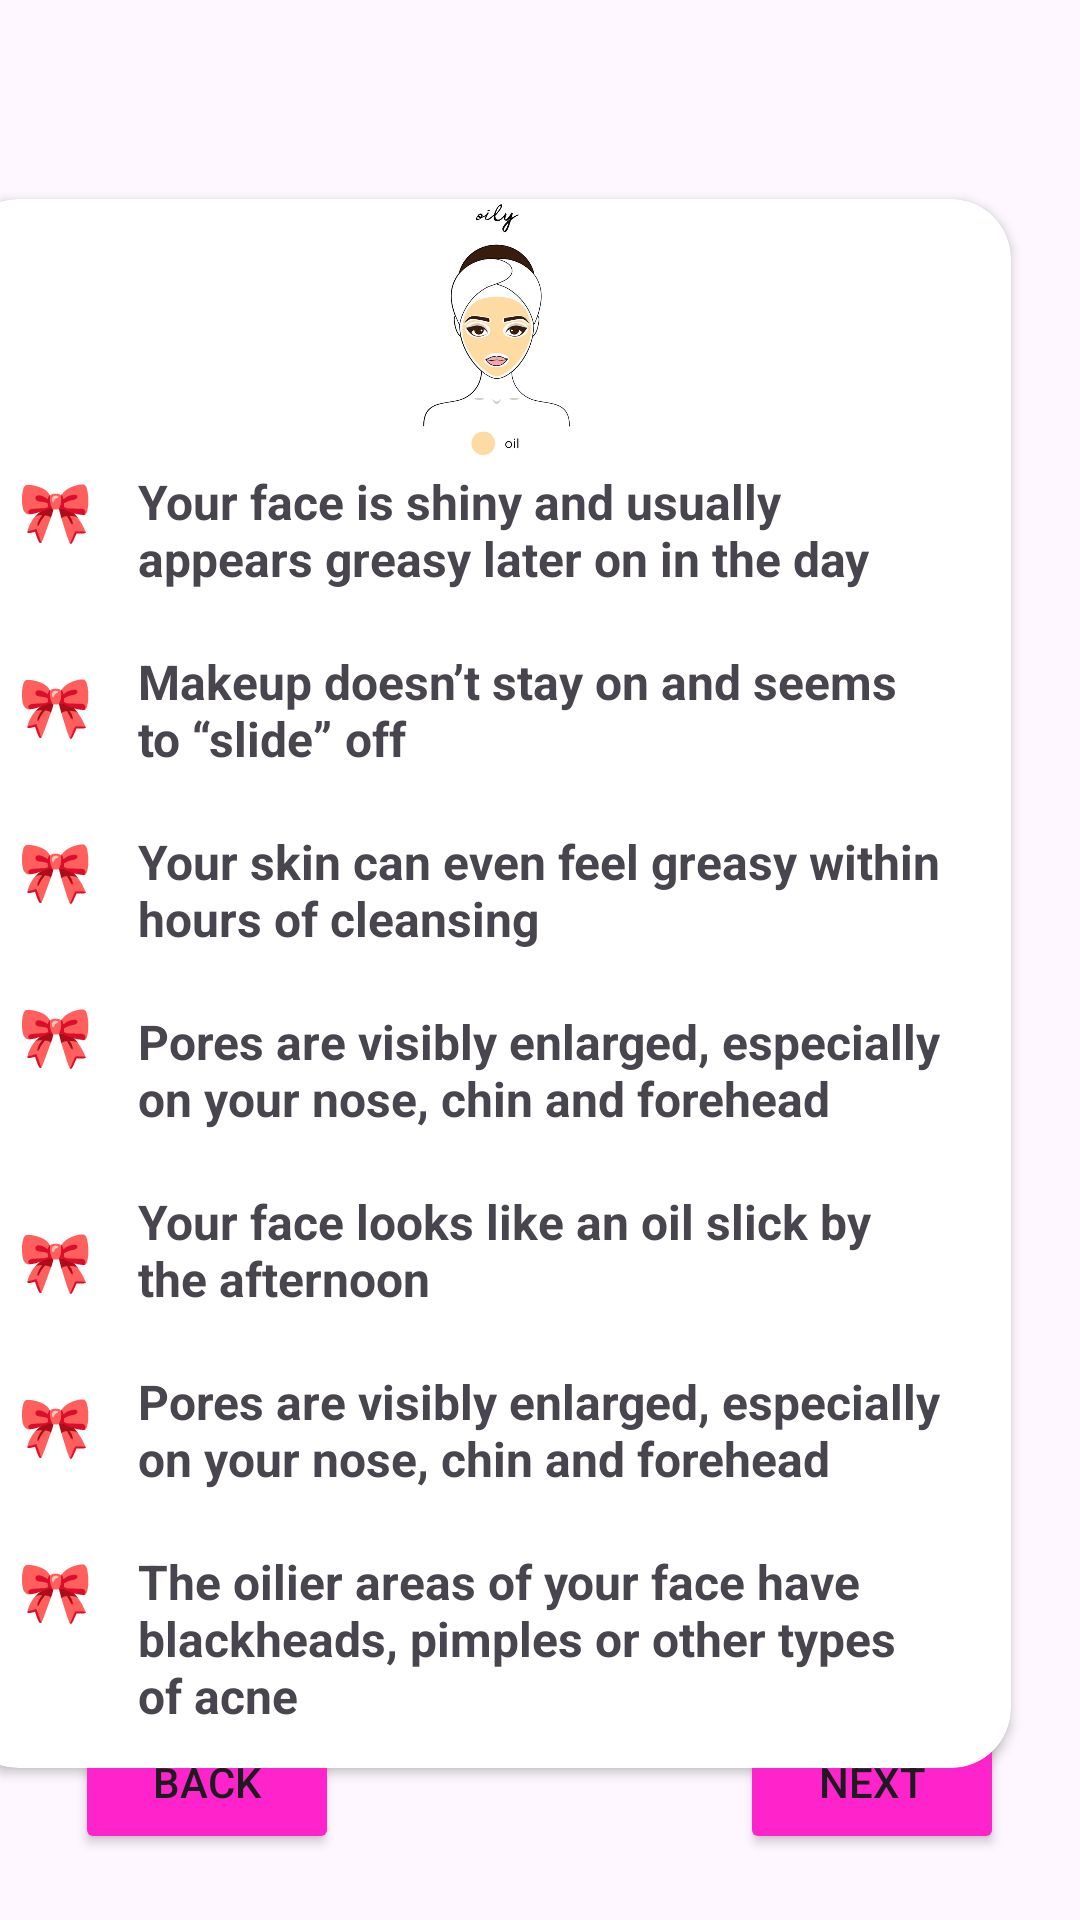

Locate icon controls on the screen. Image size 1080px x 1920px, boxes as (left=x1, top=y1, right=x2, bottom=y2).
skin care quiz: (left=423, top=204, right=570, bottom=455)
